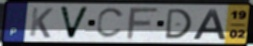A: (191, 8, 228, 41)
C: (95, 7, 127, 40)
D: (164, 8, 194, 41)
F: (124, 6, 161, 41)
K: (28, 6, 55, 39)
V: (58, 6, 91, 41)
